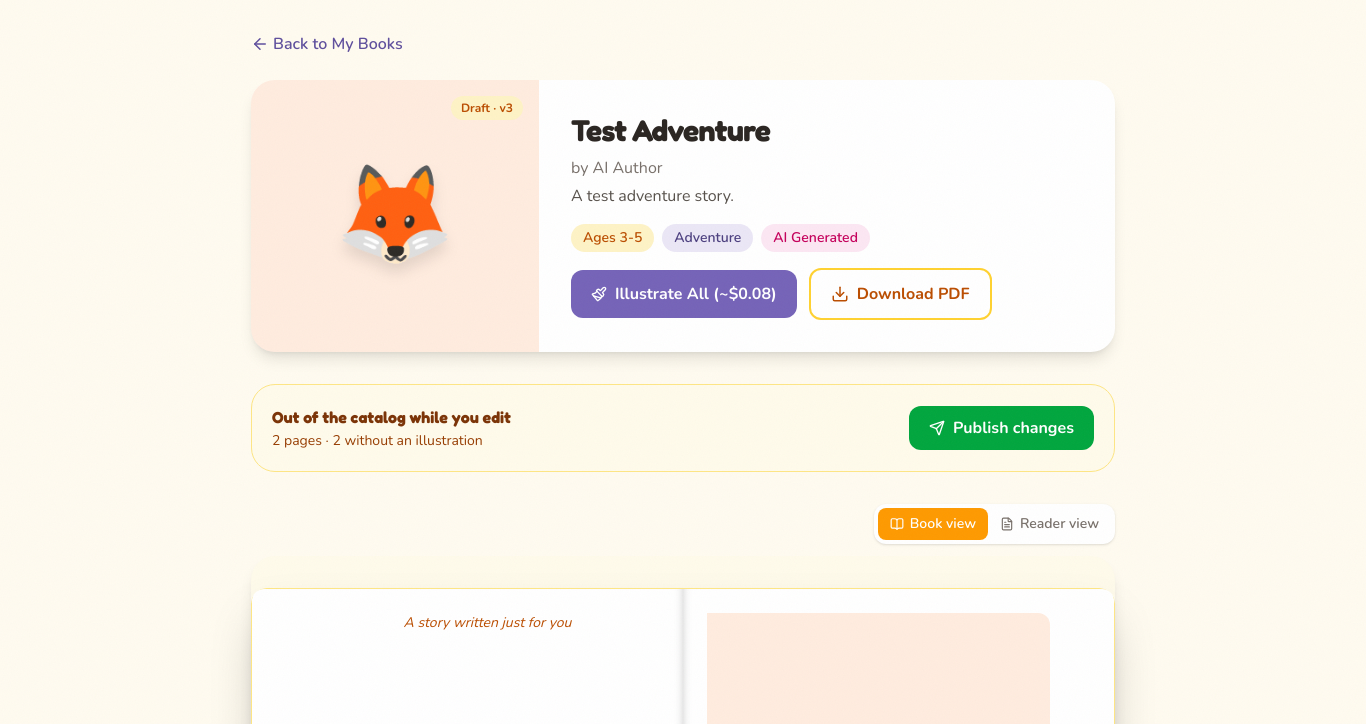
Test: BookDetail — Illustrate empty-response handling › shows a status-code message instead of "Unexpected end of JSON input" when the server returns an empty 500
Wait for the book to load and the "Illustrate All" button to appear.
Click the button "Illustrate All (~$0.08)" at (684, 294), box [571,270,797,318]
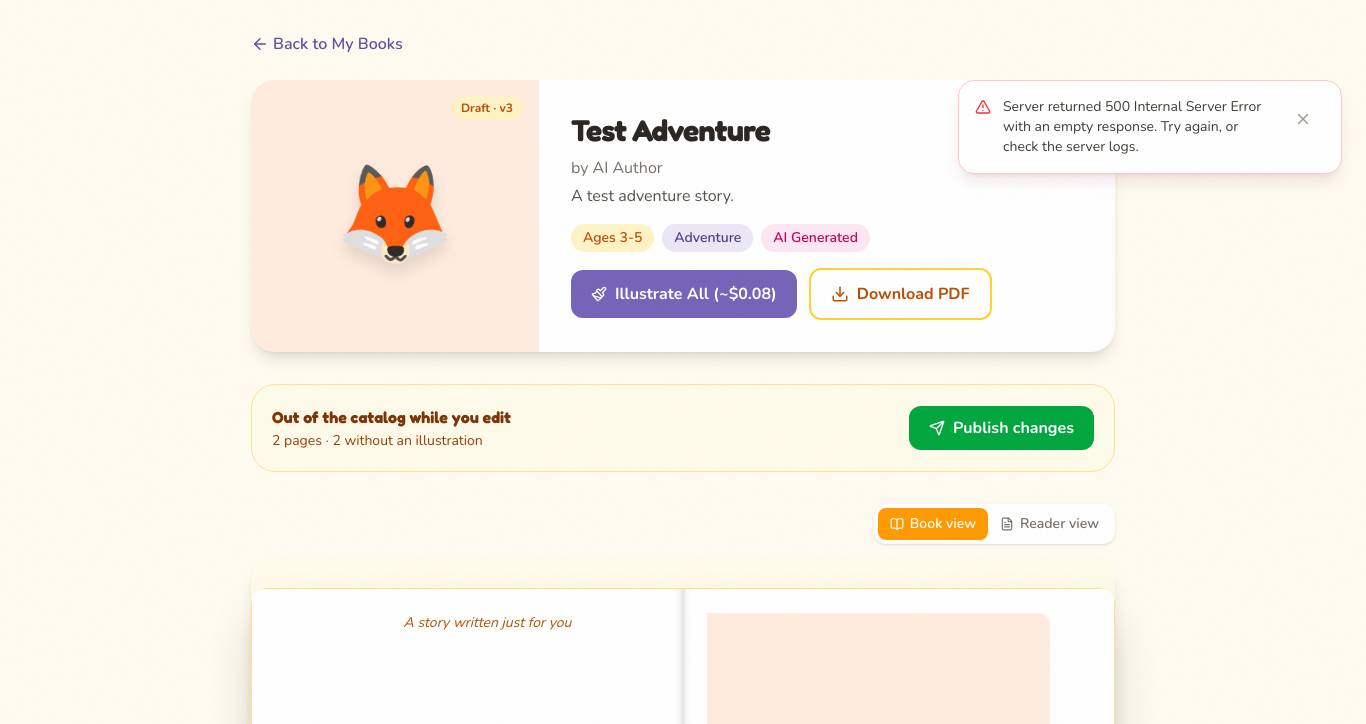
Result: the text "empty response" is shown at [1003,97,1261,156]
